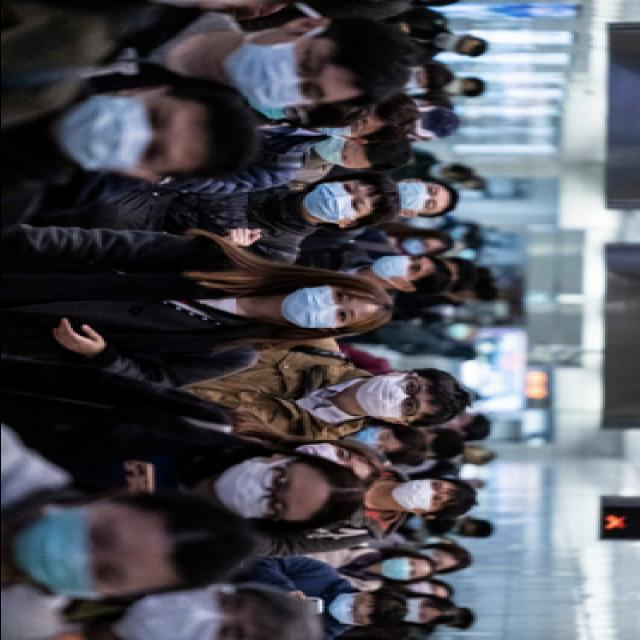with_mask: (10, 502, 140, 597), (55, 92, 182, 170), (226, 34, 336, 106), (118, 587, 254, 640), (214, 458, 302, 516), (283, 283, 359, 328), (352, 376, 428, 419), (304, 180, 372, 222), (388, 478, 448, 511), (369, 252, 429, 282), (396, 180, 444, 210), (314, 136, 357, 168), (328, 594, 372, 624), (376, 556, 422, 582), (350, 426, 396, 452), (400, 598, 429, 622), (405, 234, 436, 252)
